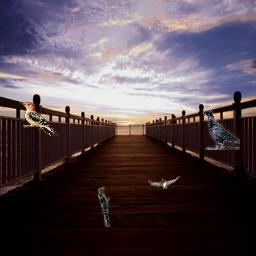Crow: (203, 110, 240, 150)
Swallow: (148, 176, 180, 189)
Woodpecker: (19, 102, 59, 137), (98, 187, 110, 227)
